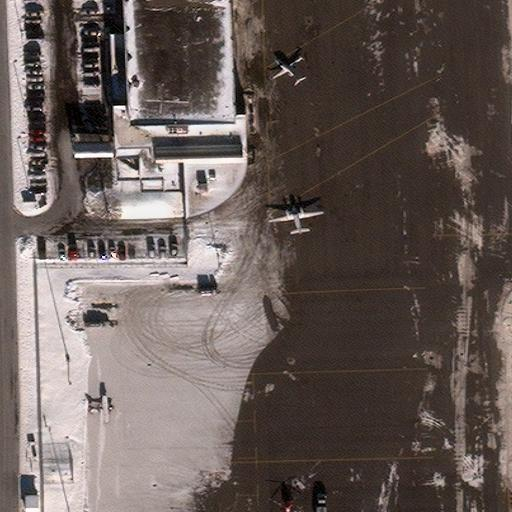Medium Civil Transport: (268, 205, 322, 234)
Small Civil Transport: (86, 396, 113, 423), (271, 58, 300, 82)
